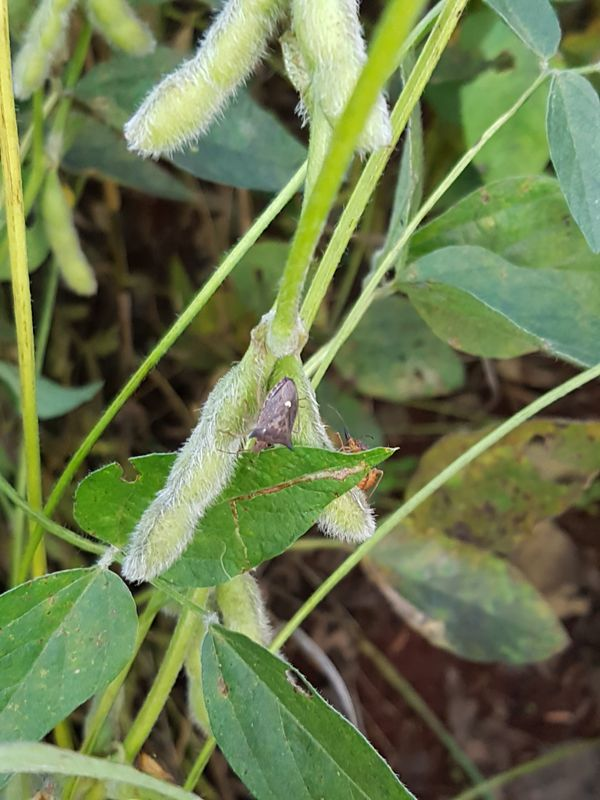Euschistus_heros_adulto: (212, 363, 307, 470), (307, 415, 396, 509)
